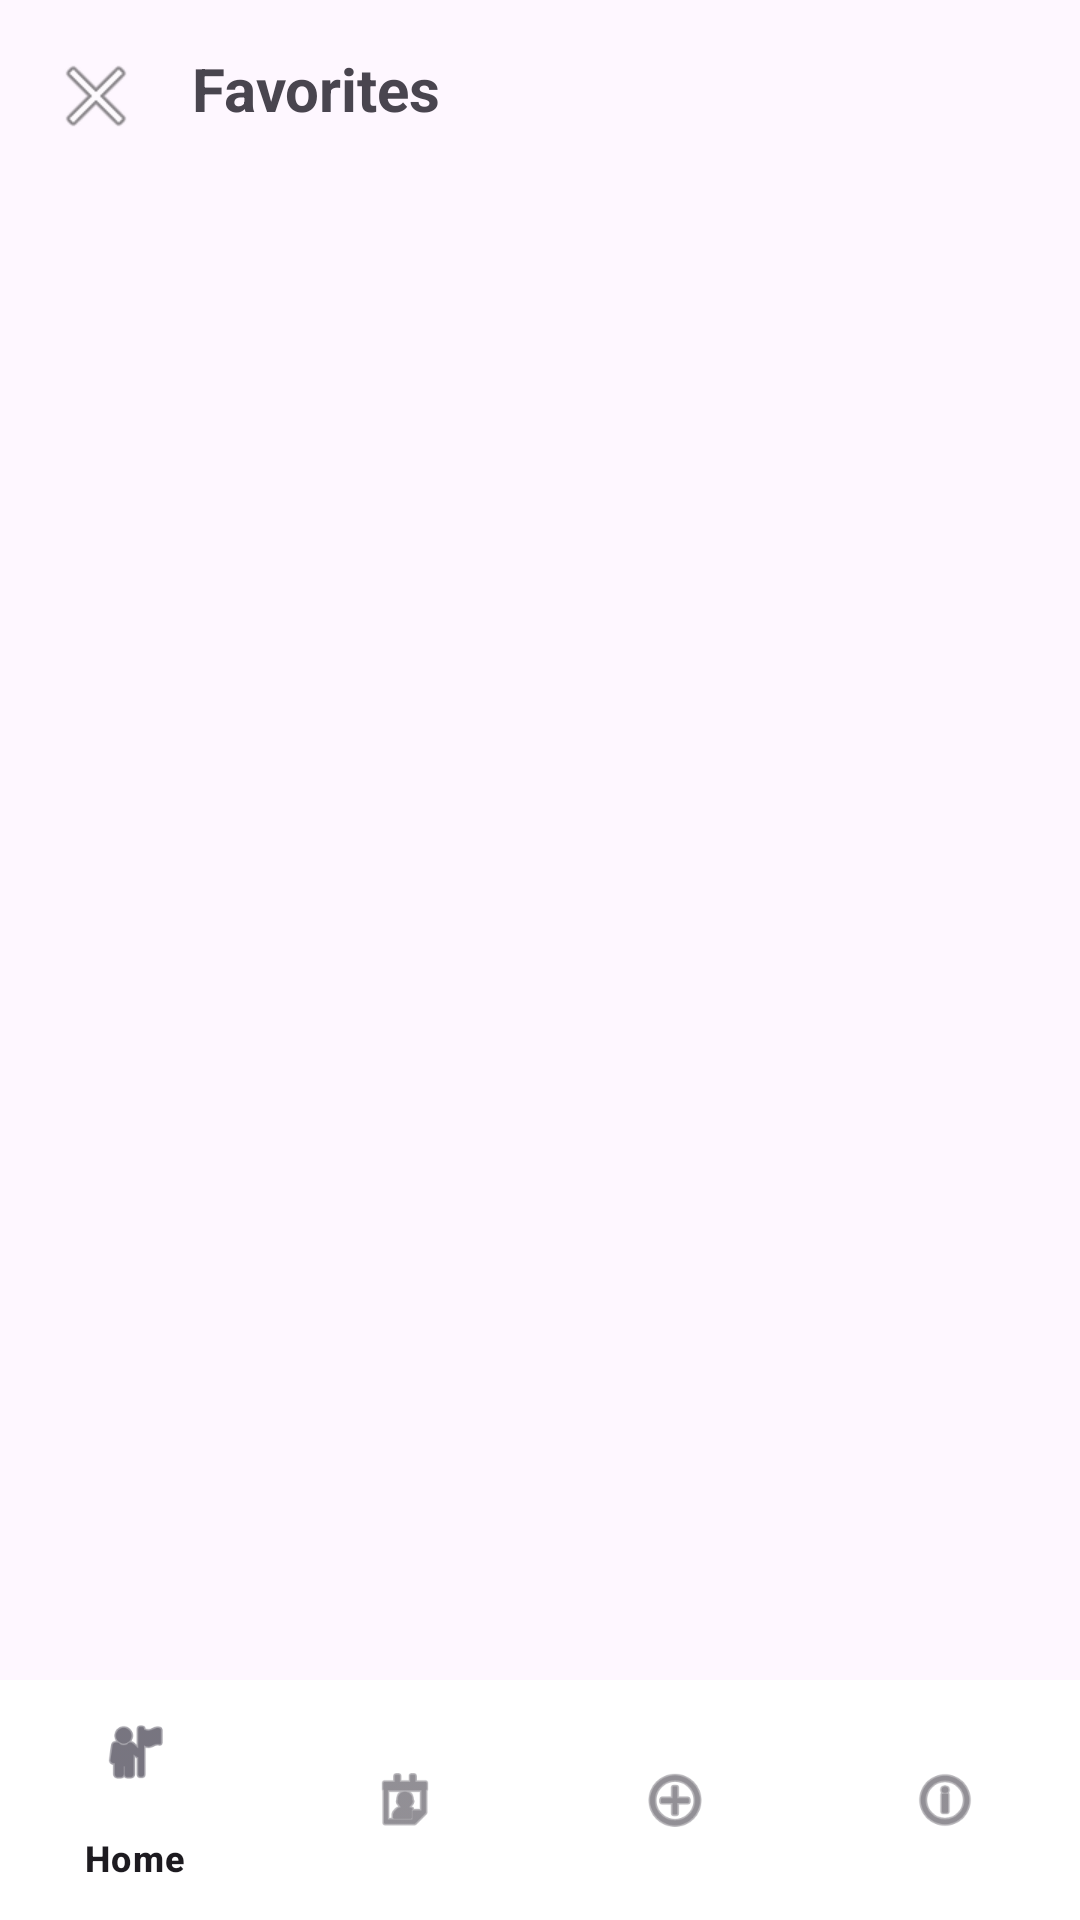

Point at icon controls on the screen. Image size 1080px x 1920px, points as (x,y).
Back: (96,96)
